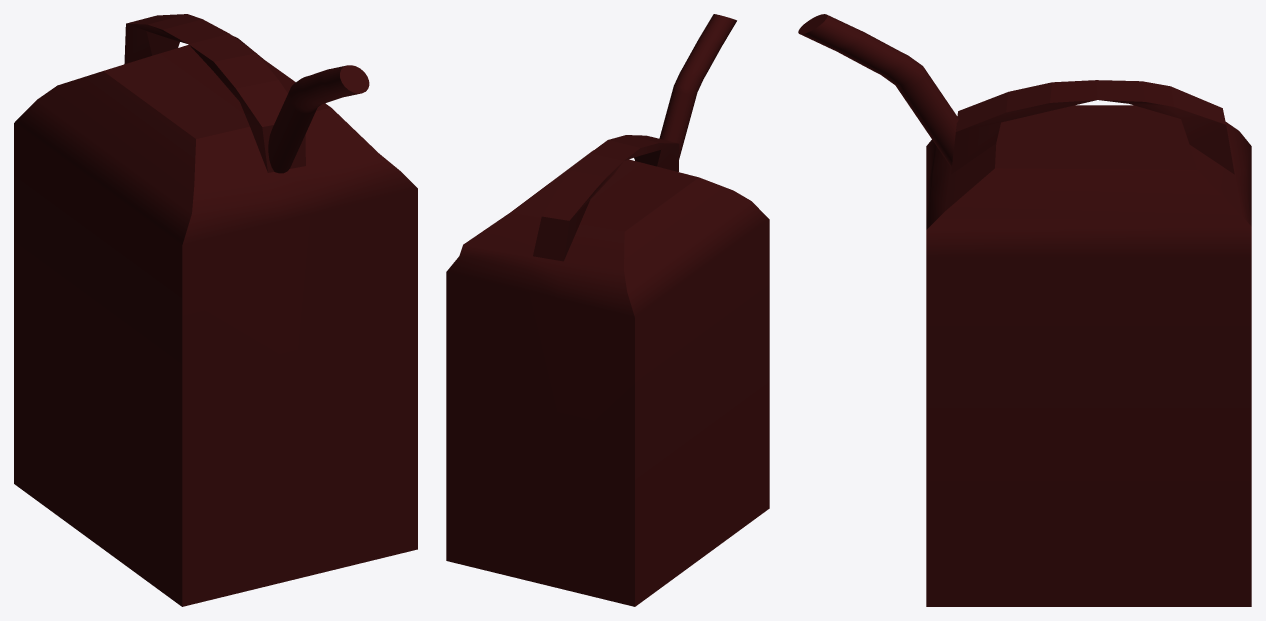
File: gas_can.obj
The picture shows the model from 3 angles, left to right: view 1: azimuth 30°, elevation 25°; view 2: azimuth 150°, elevation 25°; view 3: azimuth 270°, elevation 25°; orthographic projection. The views are drawn at different scales.
Parts seen in each view (by area): view 1: pCube2; view 2: pCube2; view 3: pCube2.
Part boxes in pixels (x1,y1,x2,y2): pCube2: [14, 14, 417, 606]; pCube2: [446, 14, 769, 606]; pCube2: [798, 14, 1251, 606].
Bounding box in the file's own units: 3.16 × 7.06 × 5.44.
